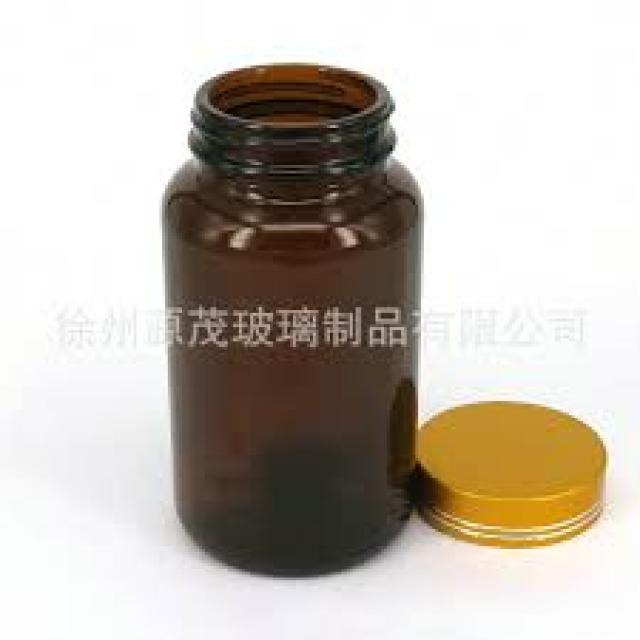glass: (159, 63, 418, 578)
metal: (410, 399, 603, 544)
